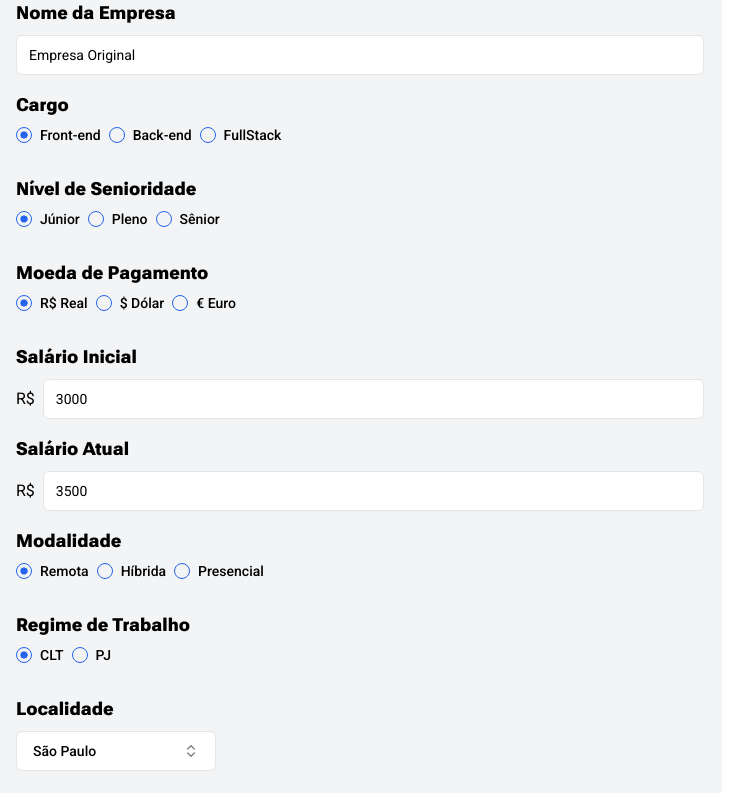
JobForm Component - Job Editing Tests (Uploading, Validation and Submission) › Should enable save button when making changes
This screenshot has width=738, height=793.
Replace the text in the field showing "Empresa Original" with "Empresa Modificada". click: (360, 55)
box: left=16, top=35, right=704, bottom=75
(page scrolled)
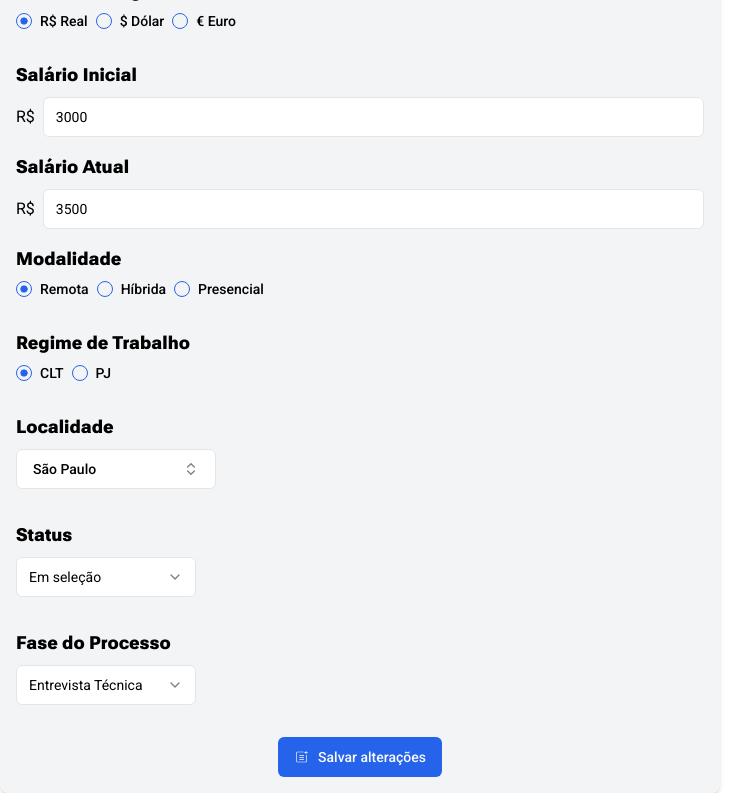
Expected: the button "Salvar alterações" is enabled, left=278, top=737, right=442, bottom=777
